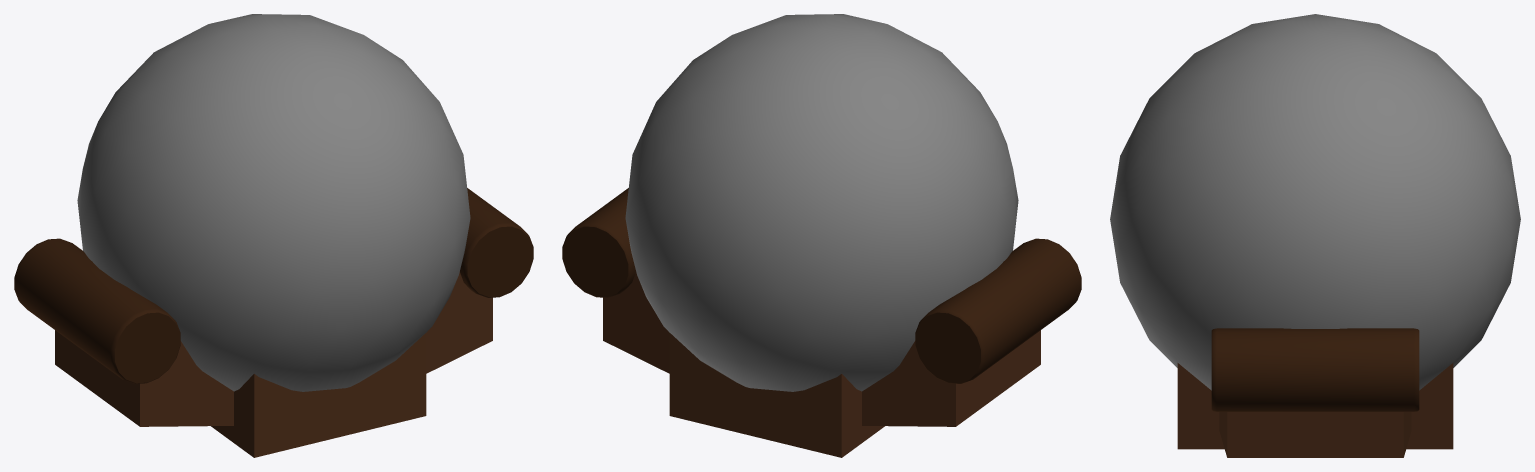
Rendered from HeaveyTraps.fbx.
The picture shows the model from 3 angles, left to right: view 1: azimuth 30°, elevation 25°; view 2: azimuth 150°, elevation 25°; view 3: azimuth 270°, elevation 25°; orthographic projection. The views are drawn at different scales.
Parts seen in each view (by area): view 1: Rollyball01, BigDropperHinge01, DropperBox01, BigDropper01-L, BigDropper01-R; view 2: Rollyball01, BigDropperHinge01, DropperBox01, BigDropper01-L, BigDropper01-R; view 3: Rollyball01, BigDropperHinge01, BigDropper01-R, DropperBox01.
Part boxes in pixels (<box>): Rollyball01: <box>77,14,470,391</box>; BigDropperHinge01: <box>14,188,533,383</box>; DropperBox01: <box>211,333,426,457</box>; BigDropper01-L: <box>55,330,233,426</box>; BigDropper01-R: <box>426,271,492,373</box>; Rollyball01: <box>625,14,1018,391</box>; BigDropperHinge01: <box>562,188,1081,383</box>; DropperBox01: <box>669,333,884,457</box>; BigDropper01-L: <box>862,330,1040,426</box>; BigDropper01-R: <box>603,271,669,373</box>; Rollyball01: <box>1110,14,1520,390</box>; BigDropperHinge01: <box>1211,328,1419,411</box>; BigDropper01-R: <box>1219,412,1411,457</box>; DropperBox01: <box>1177,363,1453,449</box>.
Bounding box in the file's own units: 3.67 × 2.98 × 2.98.
